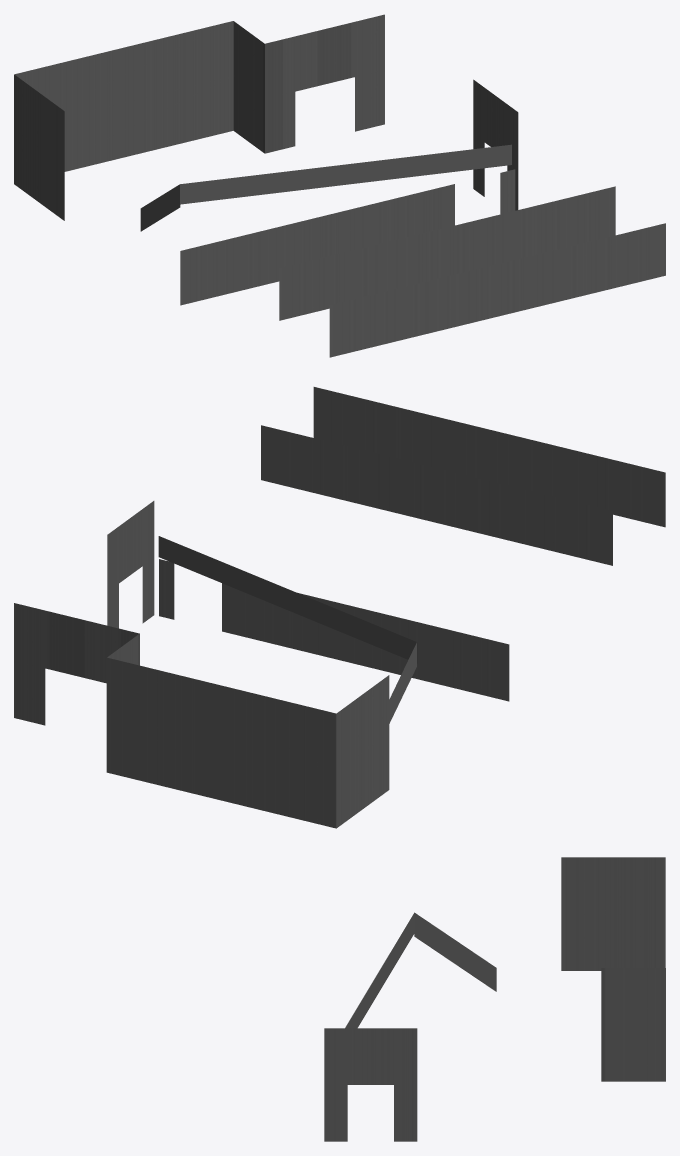
Rendered from SM_Glass.glb.
3 views of the same model, one above another, from view 1: azimuth 30°, elevation 25°; view 2: azimuth 150°, elevation 25°; view 3: azimuth 270°, elevation 25° (orthographic). The views are drawn at different scales.
Visible parts, largest first — view 1: SM_Glass; view 2: SM_Glass; view 3: SM_Glass.
Part boxes in pixels (x1=…): SM_Glass: x1=14, y1=14, x2=665, y2=357; SM_Glass: x1=14, y1=387, x2=665, y2=828; SM_Glass: x1=324, y1=857, x2=665, y2=1141.
Bounding box in the file's own units: 1634 × 505 × 2626.
1 material, 1 textured.
